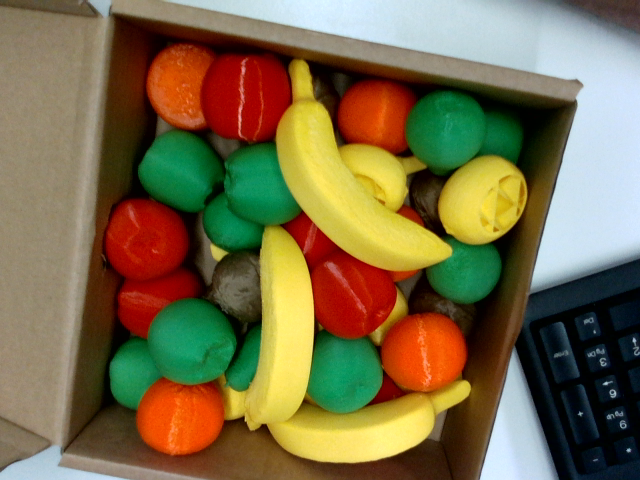banana: (226, 54, 454, 310), (264, 378, 478, 473), (240, 224, 326, 435)
green apple: (131, 282, 251, 401), (389, 73, 502, 185), (125, 115, 237, 228), (210, 136, 303, 239), (302, 328, 390, 420), (93, 330, 173, 413), (421, 232, 506, 309)
lemon: (424, 139, 541, 260), (332, 124, 422, 214)
orange: (331, 71, 420, 157), (134, 376, 226, 458), (141, 38, 215, 132), (381, 312, 466, 391)
red apple: (291, 243, 405, 352), (102, 242, 209, 344), (200, 52, 292, 143), (102, 196, 192, 282)
walnut: (204, 251, 261, 322)
